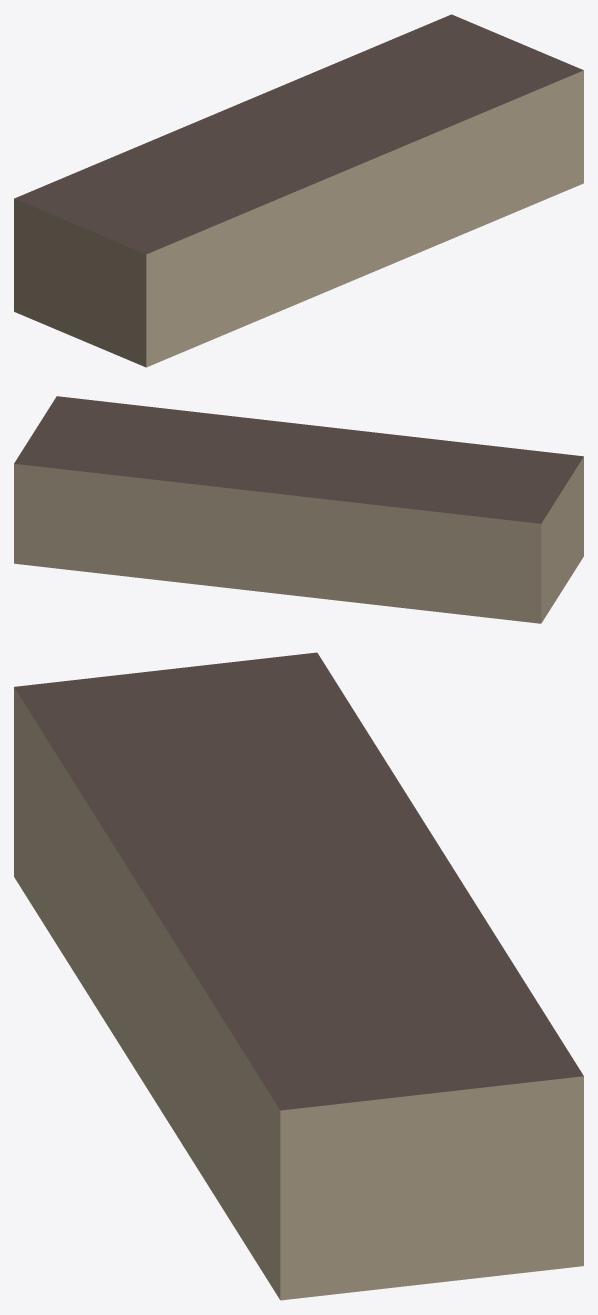
The picture shows the model from 3 angles, top to bottom: view 1: azimuth 30°, elevation 25°; view 2: azimuth 150°, elevation 25°; view 3: azimuth 270°, elevation 25°; orthographic projection. The views are drawn at different scales.
Parts seen in each view (by area): view 1: HP-w859424257; view 2: HP-w859424257; view 3: HP-w859424257.
Part boxes in pixels (bbox=[...]): HP-w859424257: bbox=[14, 14, 583, 367]; HP-w859424257: bbox=[14, 396, 583, 623]; HP-w859424257: bbox=[14, 652, 583, 1300].
Size of the model in its own units: 46.56 by 9 by 24.48.
